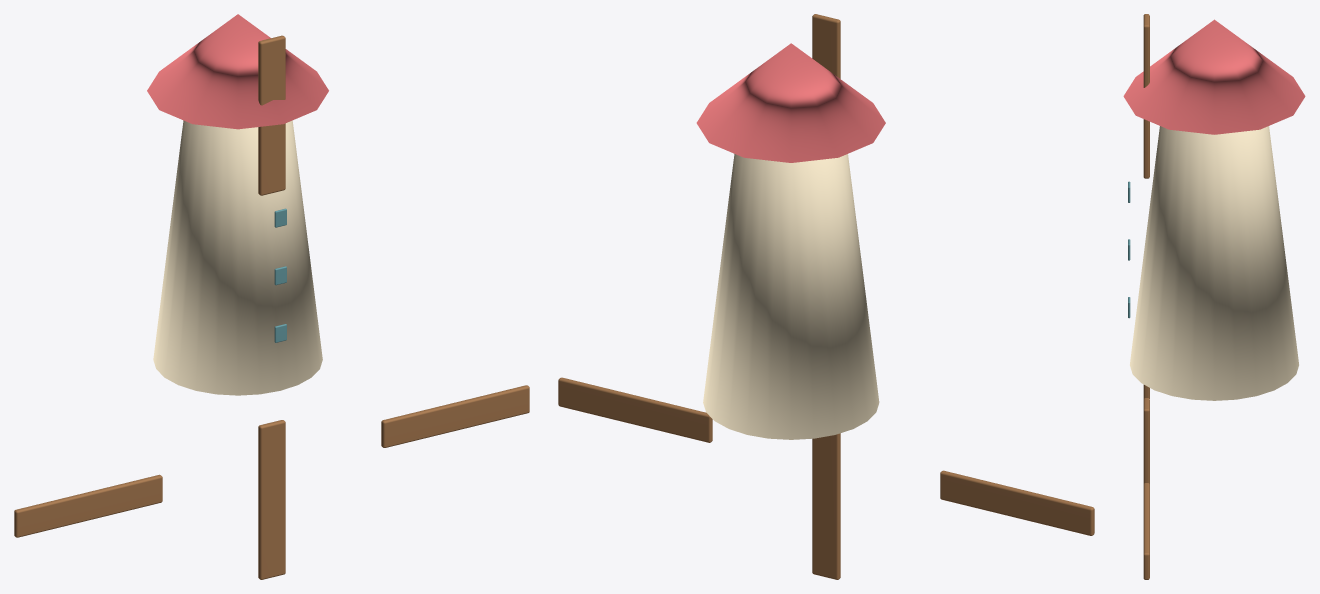
File: race_mill_mobile.glb
3 renders of one model, left to right at view 1: azimuth 30°, elevation 25°; view 2: azimuth 150°, elevation 25°; view 3: azimuth 270°, elevation 25°, orthographic. The views are drawn at different scales.
Visible parts, largest first — view 1: race_mill, CraftDetails; view 2: race_mill; view 3: race_mill.
Part boxes in pixels (bbox=[...]): race_mill: bbox=[14, 14, 529, 579]; CraftDetails: bbox=[274, 208, 286, 342]; race_mill: bbox=[558, 14, 1094, 579]; race_mill: bbox=[1123, 14, 1305, 579].
Size of the model in its own units: 28 by 28 by 8.6.
